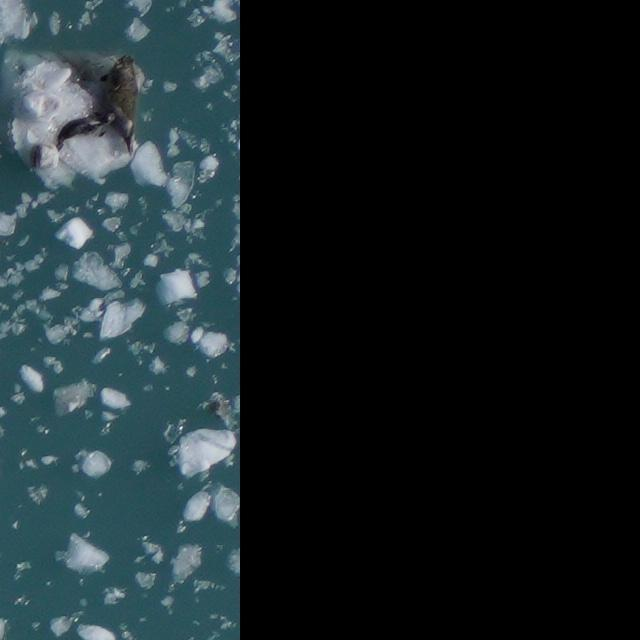seal: (100, 55, 138, 154), (56, 113, 110, 149)
